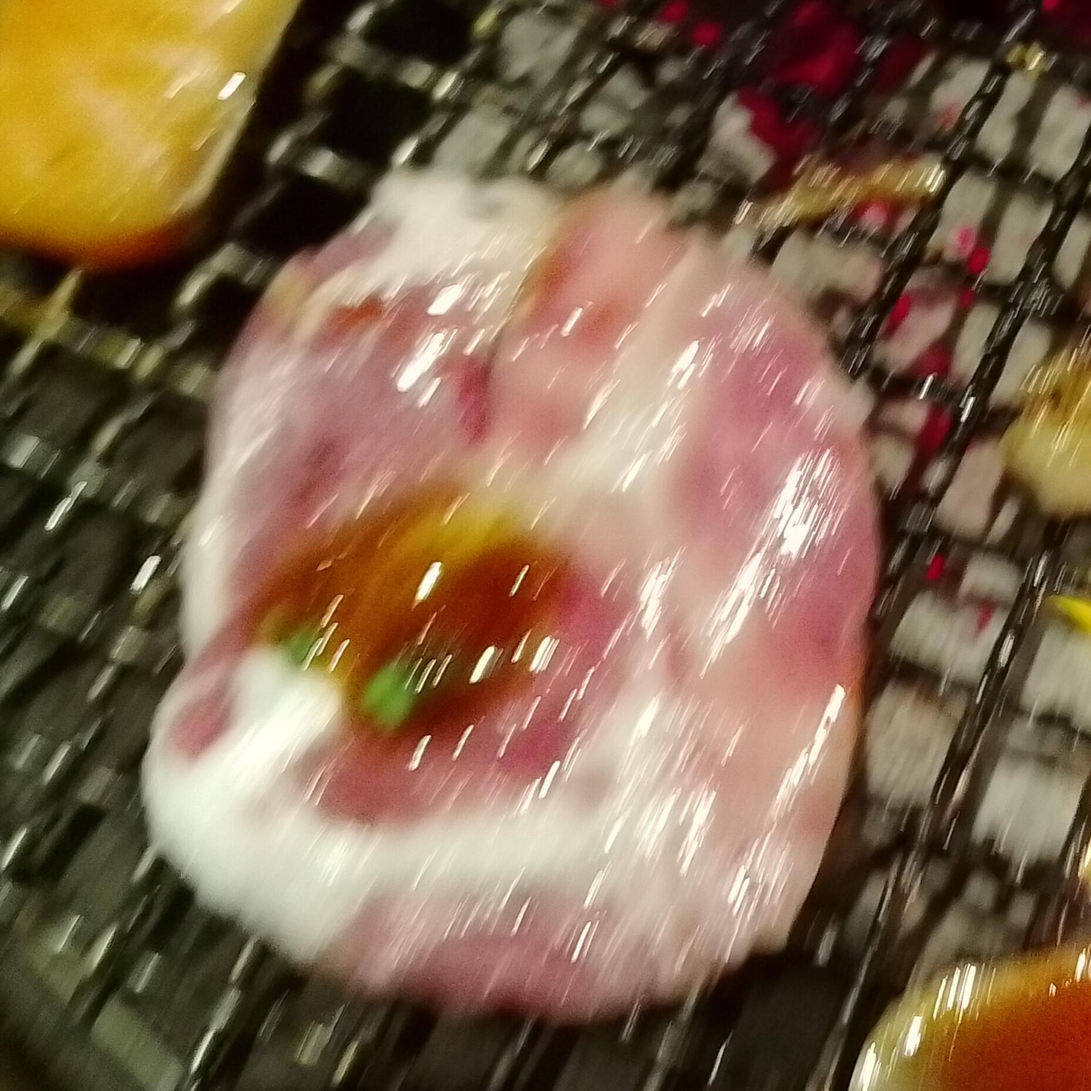Undercooked: (142, 173, 879, 1018)
